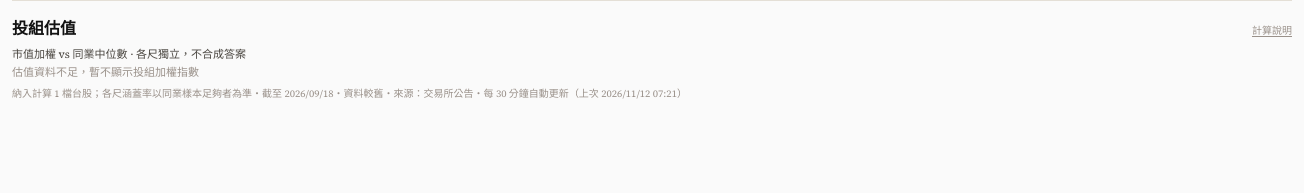
PortfolioValuationStrip 計算說明 › 預設收起，點擊後展開且含真實門檻數字
Click the button with test id "portfolio-valuation-explain-toggle": x=1272, y=31 [1252,24,1292,38]
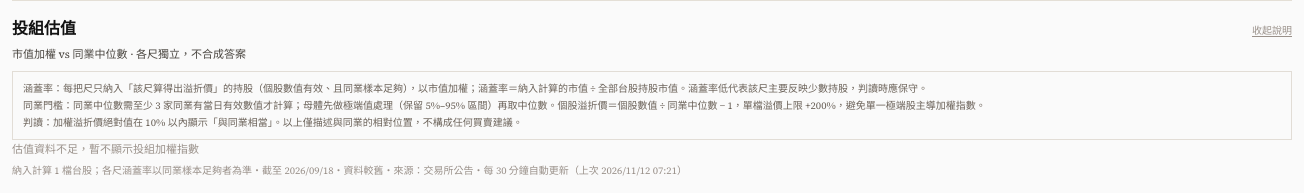
Expected: the element with test id "portfolio-valuation-explain" shows "3 家", [12,71,1292,140]
Expected: the element with test id "portfolio-valuation-explain" shows "5%–95%", [23,99,986,112]
Expected: the element with test id "portfolio-valuation-explain" shows "+200%", [23,99,986,112]
Click the button with test id "portfolio-valuation-explain-toggle": x=1272, y=31 [1252,24,1292,38]
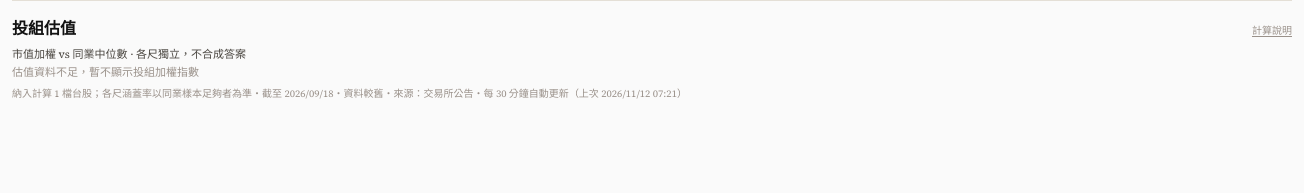
Expected: the element with test id "portfolio-valuation-explain" is gone
